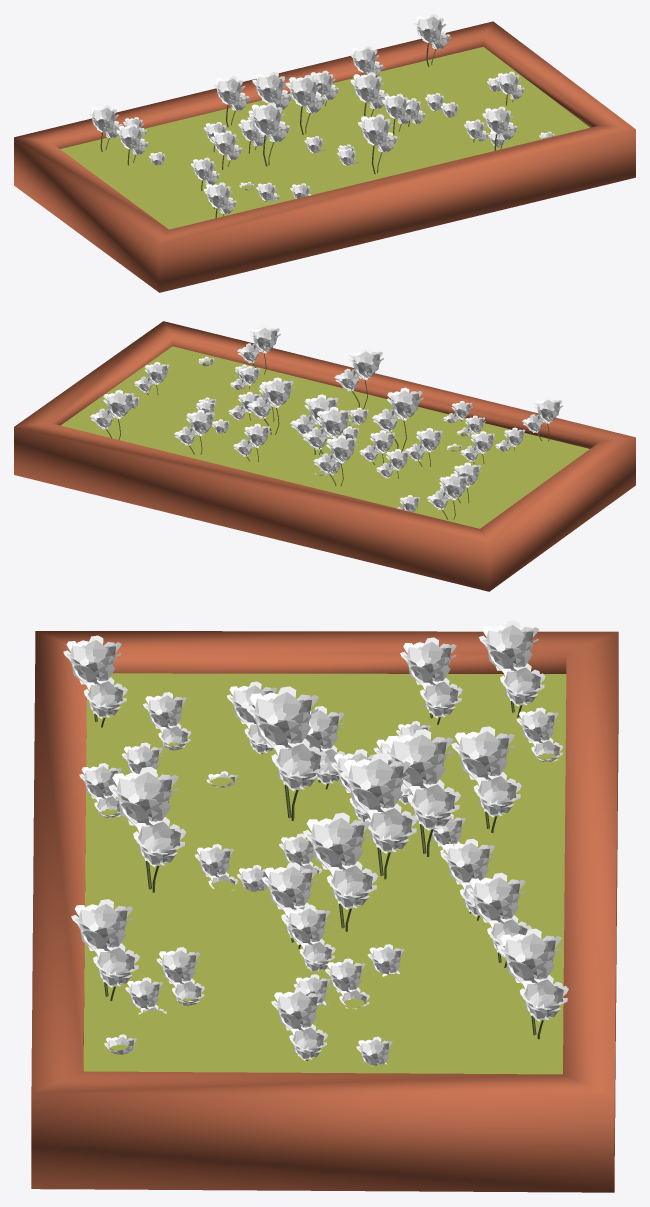
Rendered from Fleur3.fbx.
3 renders of one model, top to bottom at view 1: azimuth 30°, elevation 25°; view 2: azimuth 150°, elevation 25°; view 3: azimuth 270°, elevation 25°, orthographic. The views are drawn at different scales.
Visible parts, largest first — view 1: Cylinder005.003, BézierCurve.002; view 2: Cylinder005.003, BézierCurve.002; view 3: Cylinder005.003, BézierCurve.002.
Boxes of the visible parts, bbox=[...] form: Cylinder005.003: bbox=[14, 21, 635, 292]; BézierCurve.002: bbox=[89, 14, 554, 218]; Cylinder005.003: bbox=[14, 321, 635, 591]; BézierCurve.002: bbox=[90, 325, 563, 519]; Cylinder005.003: bbox=[31, 631, 618, 1192]; BézierCurve.002: bbox=[63, 620, 568, 1066].
Size of the model in its own units: 1067 by 205 by 569.
